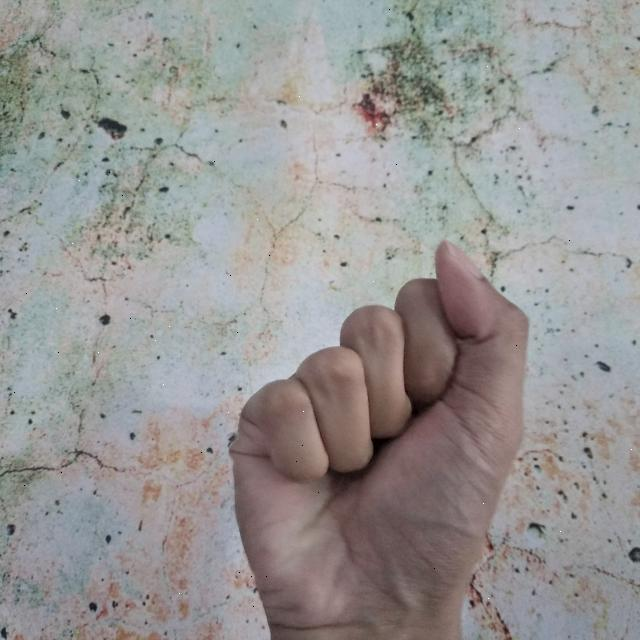A: (222, 230, 537, 640)
